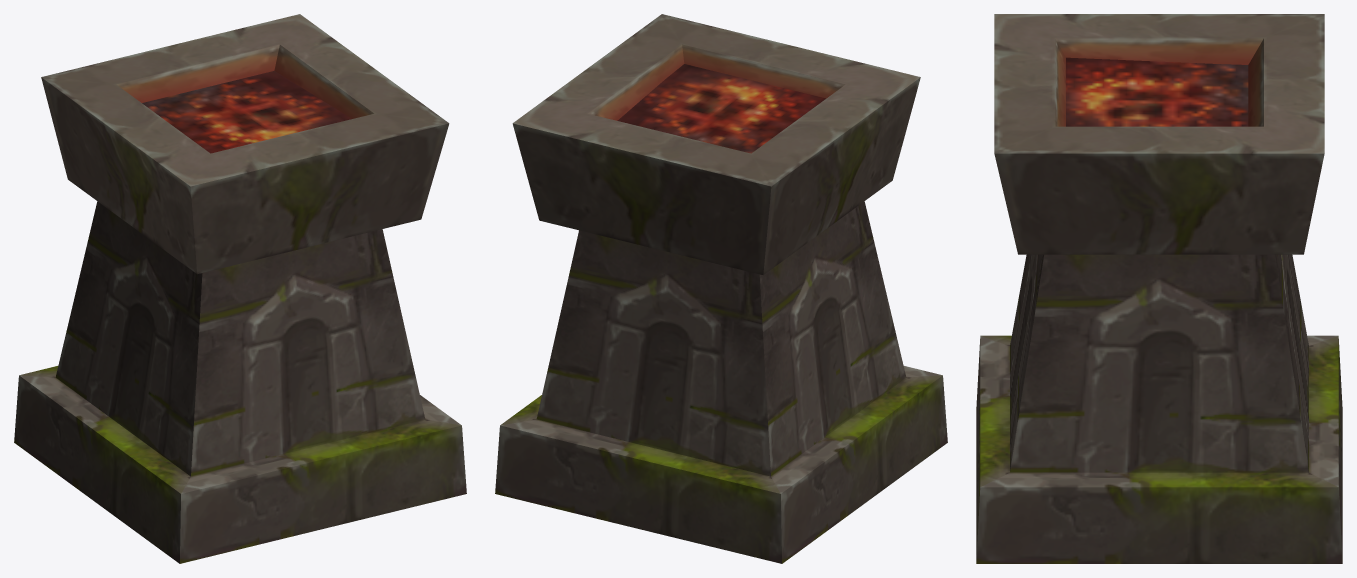
File: common_yewai_shideng01.FBX
3 views of the same model, side by side, from view 1: azimuth 30°, elevation 25°; view 2: azimuth 150°, elevation 25°; view 3: azimuth 270°, elevation 25° (orthographic). The views are drawn at different scales.
Visible parts, largest first — view 1: common_yewai_shideng01; view 2: common_yewai_shideng01; view 3: common_yewai_shideng01.
Boxes of the visible parts, x1,y1,x2,y2 form: common_yewai_shideng01: [14, 14, 466, 563]; common_yewai_shideng01: [495, 14, 947, 563]; common_yewai_shideng01: [976, 14, 1342, 563].
Size of the model in its own units: 1.44 by 1.76 by 1.44.
